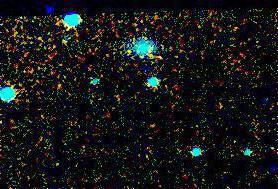star: (113, 35, 143, 65)
